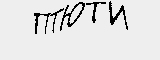И: (108, 1, 129, 29)
П: (32, 12, 50, 36)
Т: (48, 4, 63, 38), (86, 1, 105, 24)
Ю: (60, 1, 84, 32)
